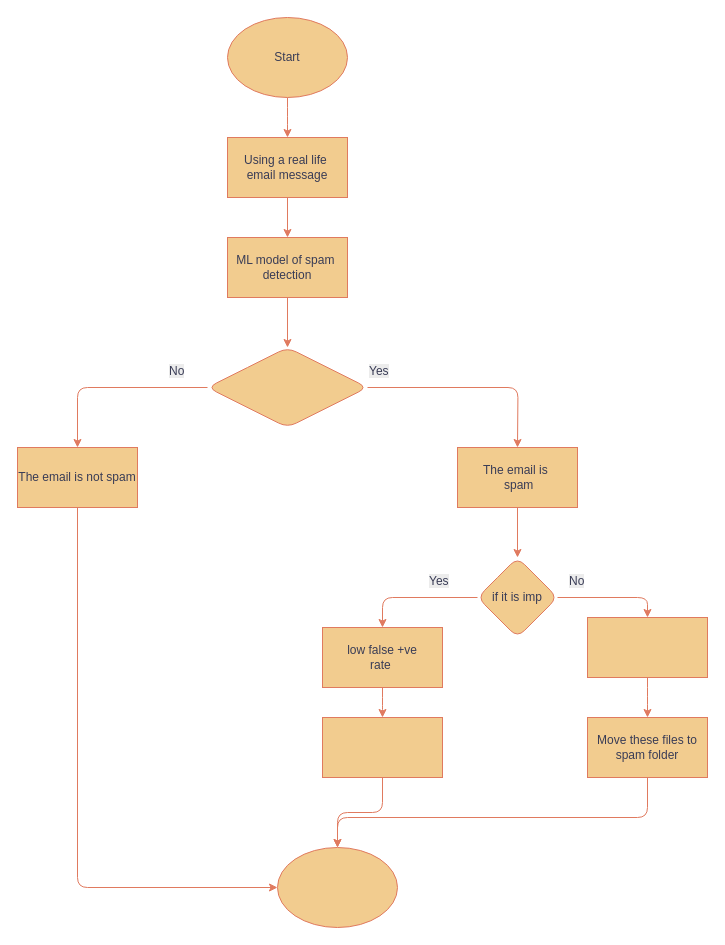
Some shapes in this 725 by 945 pixel diagram are drawn without their labels. Each missing label, with the centre of its shape:
"Check a email is spam / ham" goes at (287,387).
"End" goes at (337,887).
"low false -ve rate" goes at (647,647).
"Move these files in a separate folder" goes at (382,747).
